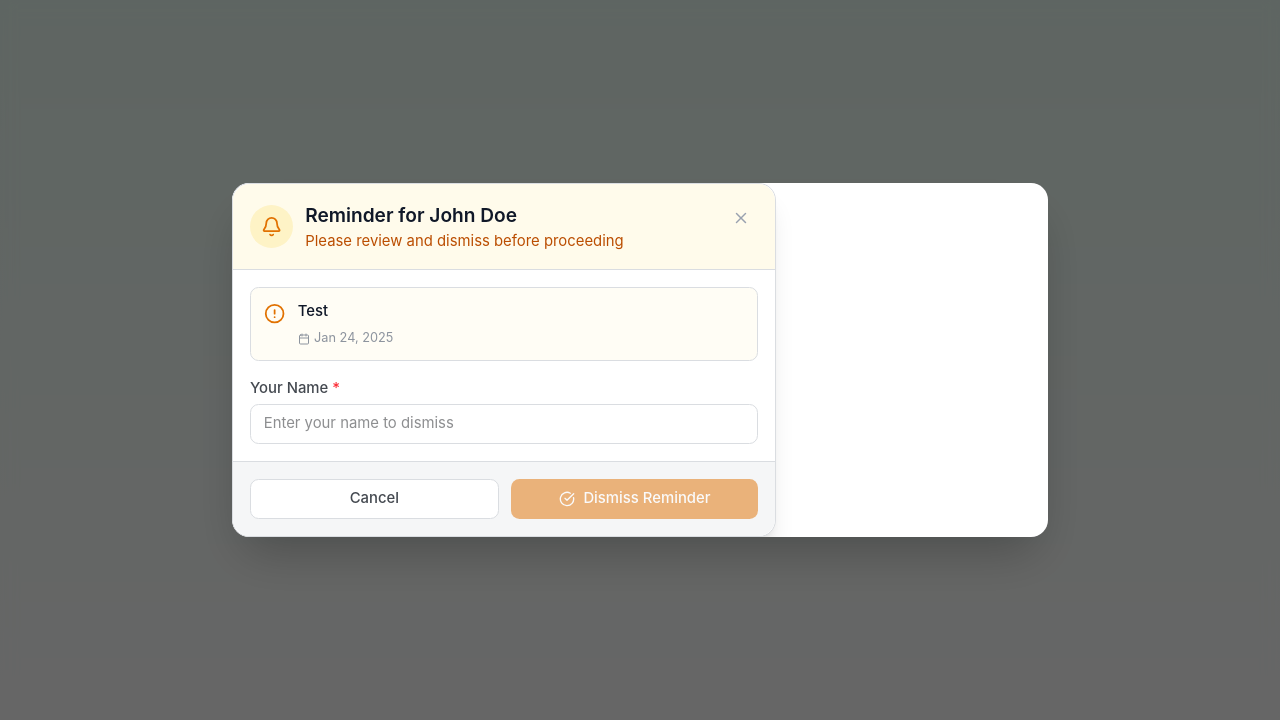
Test: ReminderDismissalModal › enables dismiss button when staff name is entered
The width and height of the screenshot is (1280, 720).
Type "Jane Smith" into the field with placeholder "Enter your name to dismiss" at coordinates (504, 424), box [250,404,758,444]
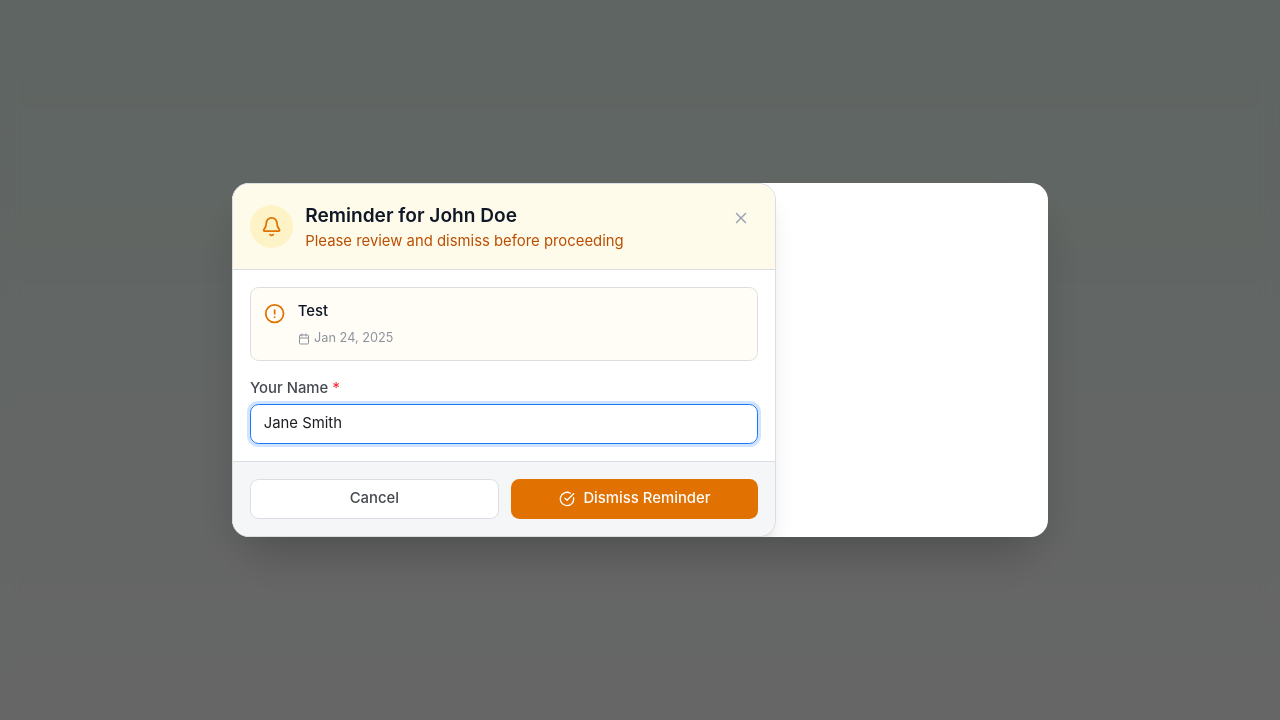
Expected: the button "Dismiss Reminder" is enabled, [511,479,758,519]
